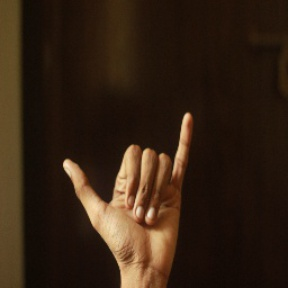J: (62, 104, 195, 259)
